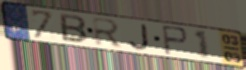1: (193, 29, 211, 60)
7: (30, 8, 56, 41)
B: (58, 12, 89, 45)
J: (128, 23, 151, 51)
P: (160, 24, 190, 57)
R: (90, 16, 126, 49)
